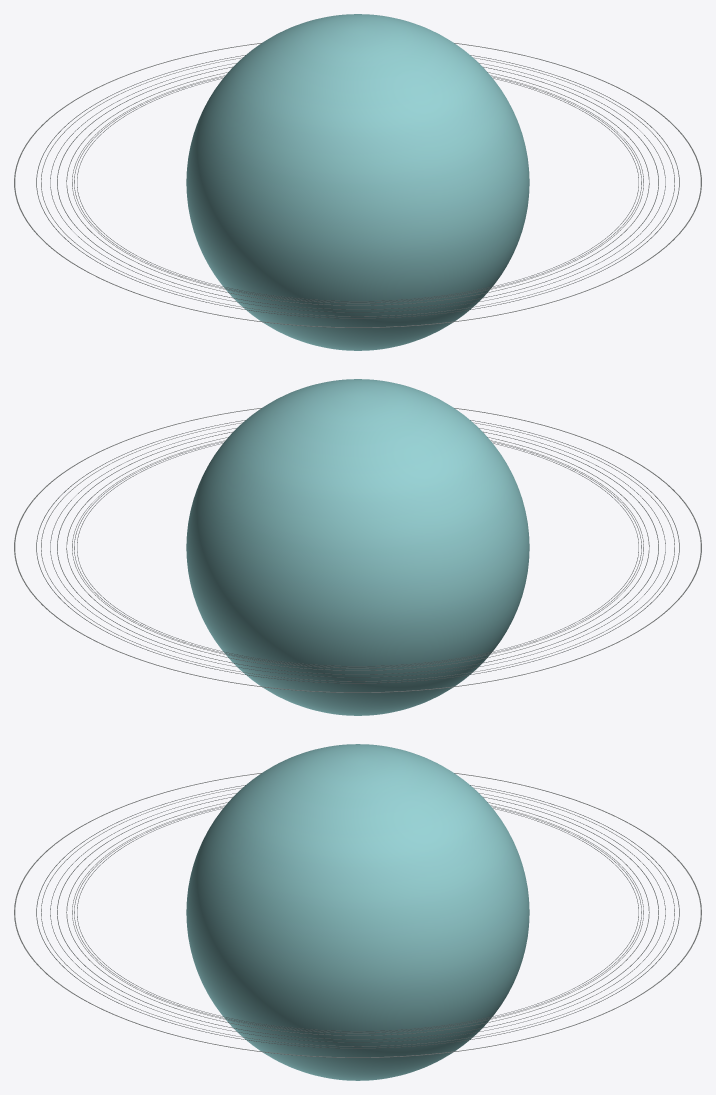
File: uranus.glb
The picture shows the model from 3 angles, top to bottom: view 1: azimuth 30°, elevation 25°; view 2: azimuth 150°, elevation 25°; view 3: azimuth 270°, elevation 25°; orthographic projection.
Visible parts, largest first — view 1: model; view 2: model; view 3: model.
Part boxes in pixels (x1=…): model: x1=14, y1=14, x2=701, y2=350; model: x1=14, y1=379, x2=701, y2=715; model: x1=14, y1=744, x2=701, y2=1080.
Size of the model in its own units: 4.1 by 2 by 4.1.
4 materials, 1 textured.
